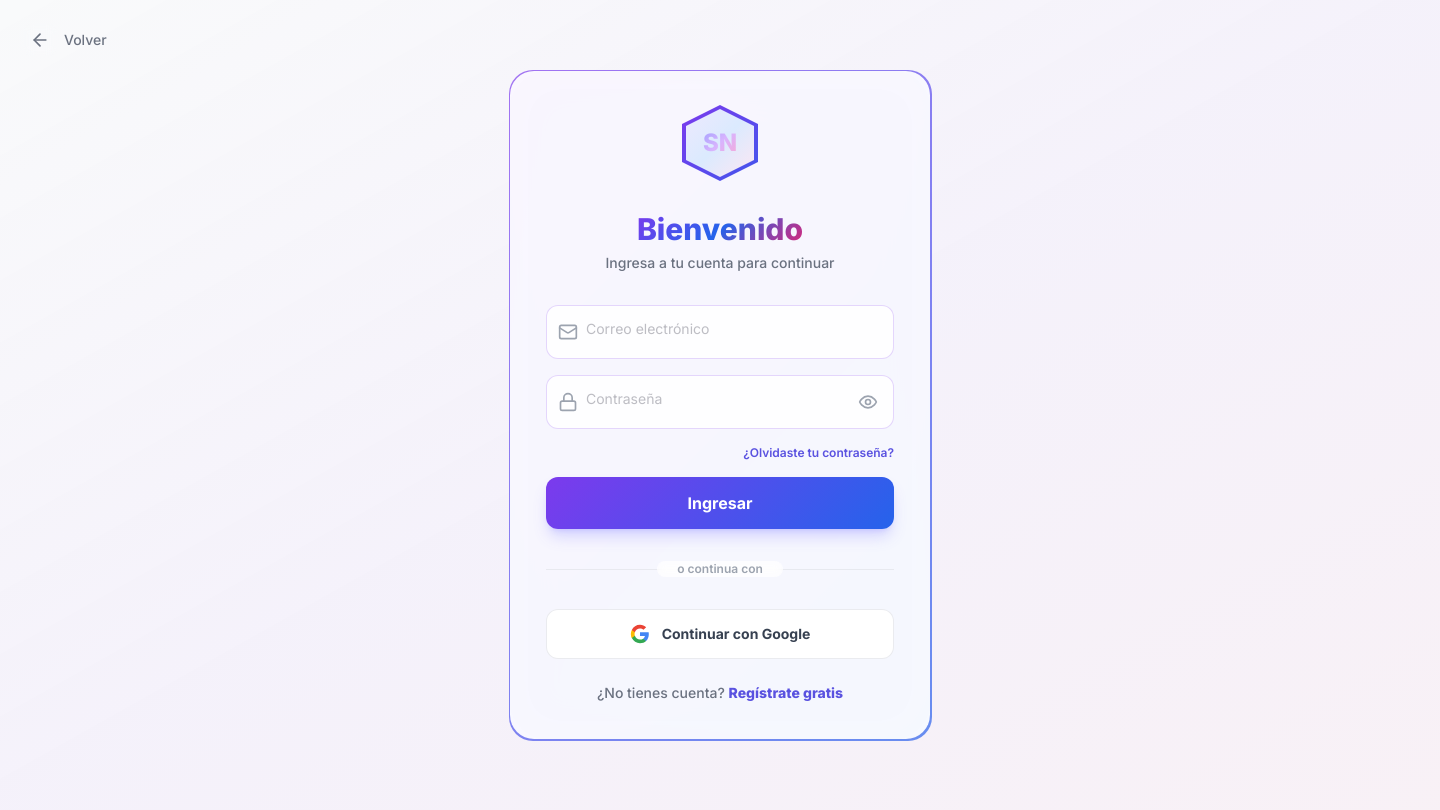
Test case: Flujo de Integración: Autenticación (Login) › Debe deshabilitar el botón mientras carga
The image size is (1440, 810).
Type "maicol@ejemplo.com" into the field labelled "Correo electrónico" at [720, 332], box [546, 305, 894, 359]
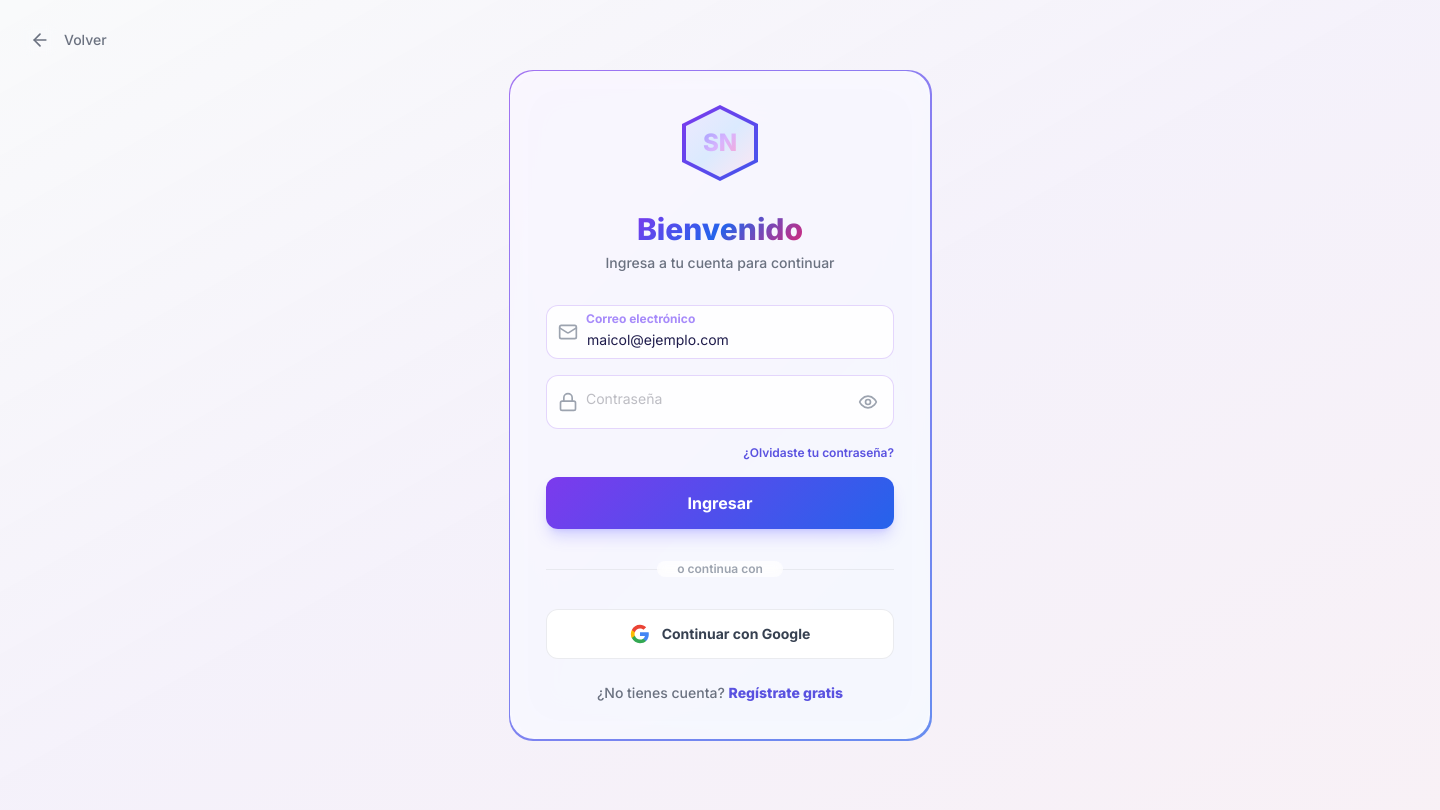
Type "password123" into the password field labelled "Contraseña" at [720, 402], box [546, 375, 894, 429]
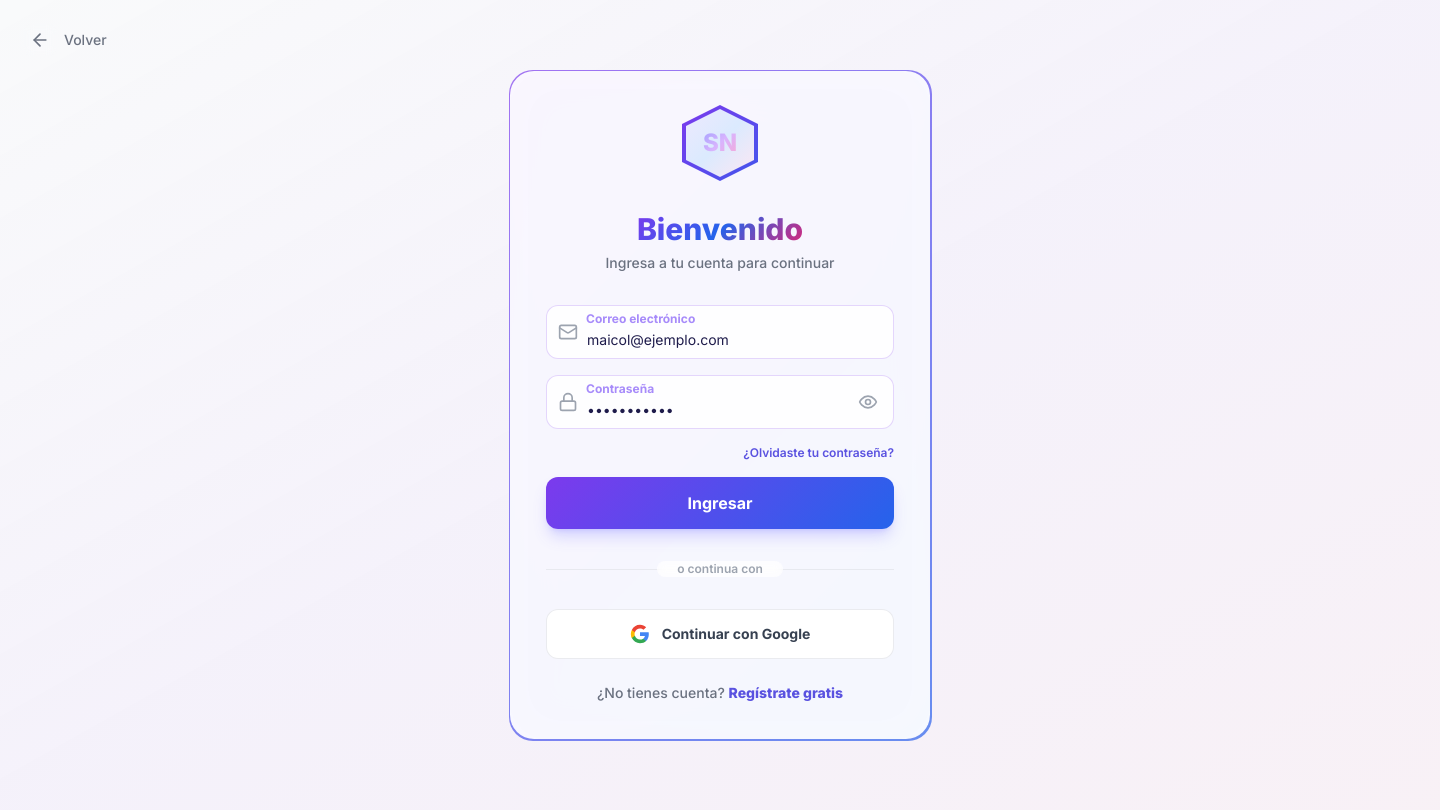
Click the button "Ingresar" at [720, 503], box [546, 477, 894, 529]
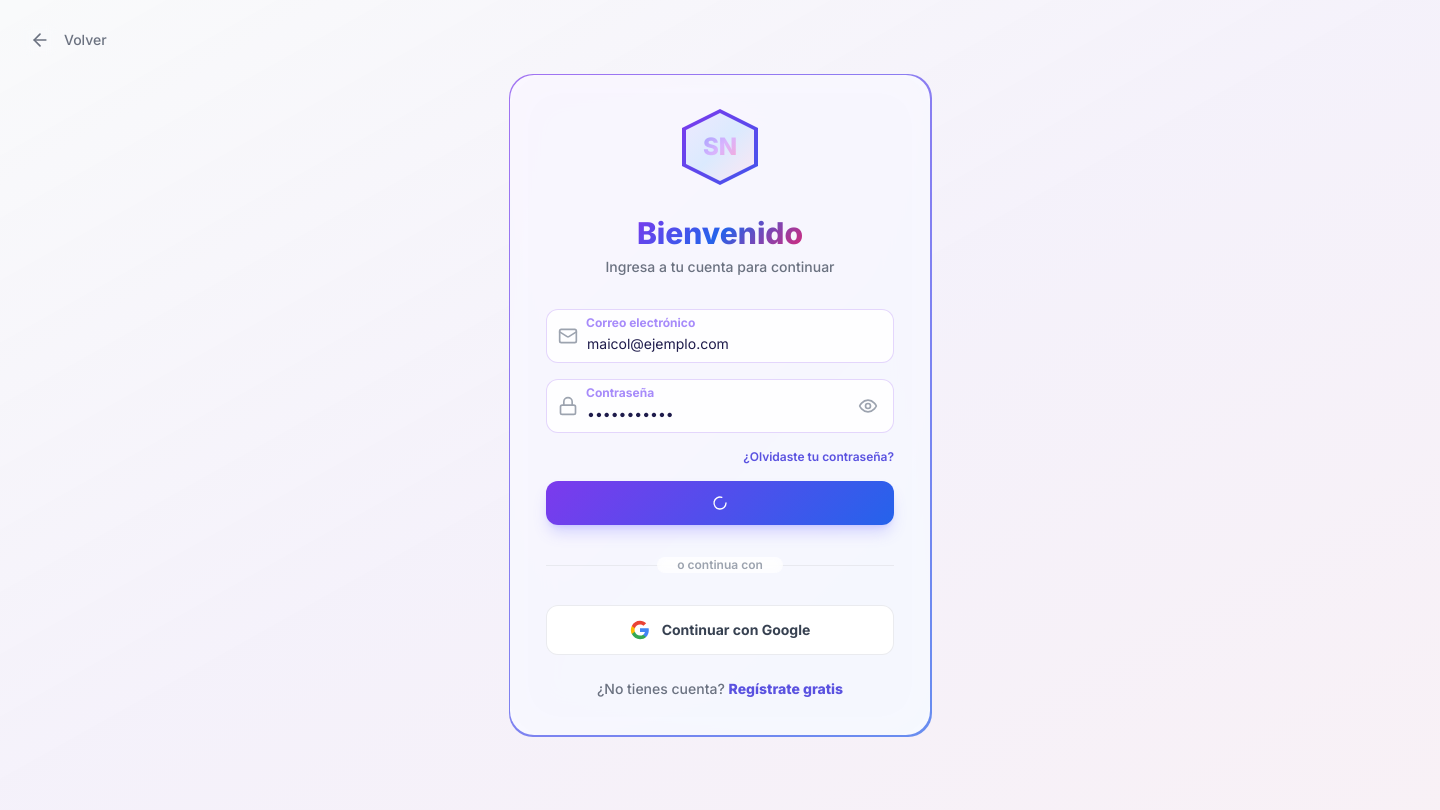
Expected: the 2nd button "Ingresar" is disabled, [546, 481, 894, 525]
